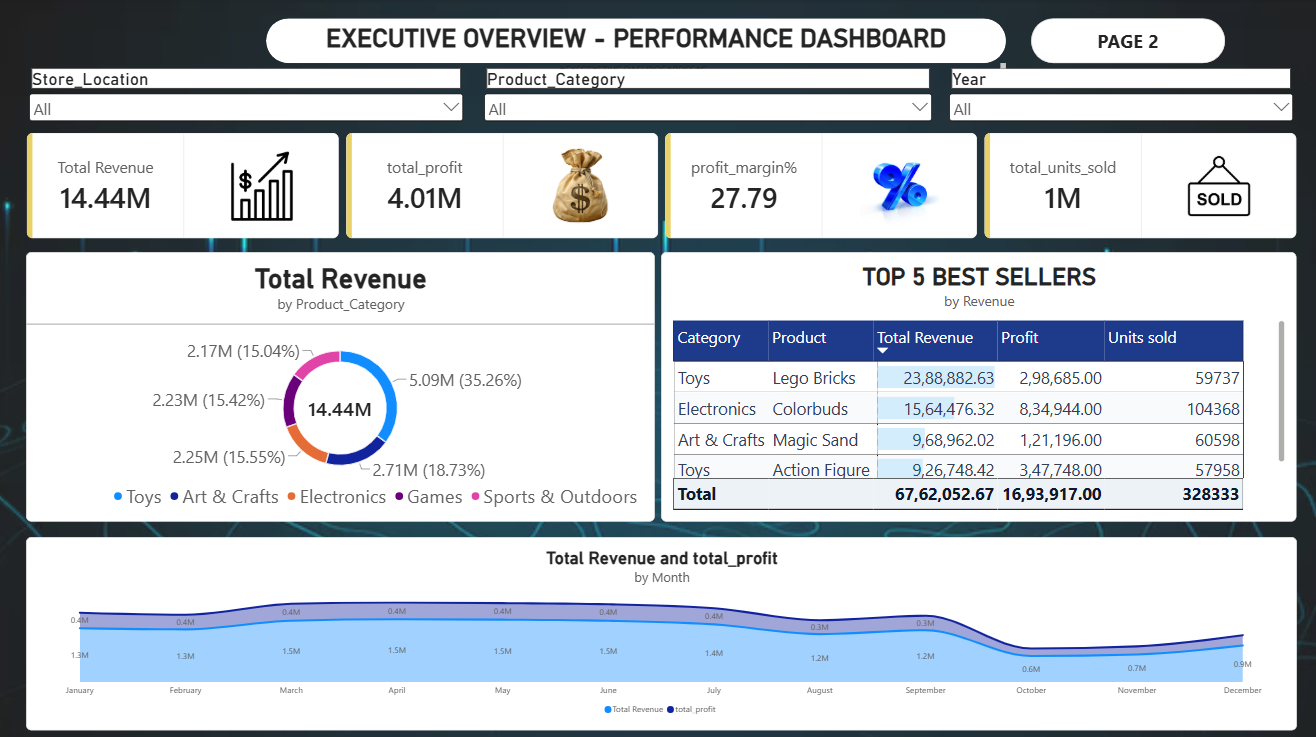

The dashboard page shown, as its layout file describes it:
{"tool":"powerbi","page":{"name":"Page 1","canvas":[1920,1080],"ordinal":0},"visuals":[{"type":"slicer","fields":{"Values":["stores.Store_Location"]},"box":[50,102.5,637.5,87.5],"z":0},{"type":"slicer","fields":{"Values":["products (1).Product_Category"]},"box":[710.1,102.9,657.5,86],"z":1000},{"type":"slicer","fields":{"Values":["sales.Date.Variation.Date Hierarchy.Year"]},"box":[1382.5,102.5,507.5,95],"z":2000},{"type":"cardVisual","fields":{"Data":["table_measures.total_revenue","table_measures.total_profit","table_measures.profit_margin%","table_measures.total_units_sold"]},"box":[50,195,1840,155],"z":3000},{"type":"stackedAreaChart","fields":{"Category":["sales.Date.Variation.Date Hierarchy.Month"],"Y":["table_measures.Total Revenue","table_measures.total_profit"]},"box":[50,782.5,1840,280],"z":4000},{"type":"donutChart","fields":{"Category":["products.Product_Category"],"Y":["table_measures.Total Revenue"]},"box":[50,370,910,390],"z":5000},{"type":"shape","box":[399,30.1,1071.5,65.2],"z":7000},{"type":"textbox","title":"EXECUTIVE OVERVIEW - PERFORMANCE DASHBOARD","box":[397.5,37.5,1071.5,65.2],"z":8000},{"type":"actionButton","box":[1505.6,30.1,281,65.2],"z":8001},{"type":"tableEx","title":"TOP 5 BEST SELLERS","fields":{"Values":["products.Product_Category","products.Product_Name","table_measures.Total Revenue","table_measures.total_profit","table_measures.total_units_sold"]},"box":[970,370,920,390],"z":8002}]}

Visuals, with their boxes in screenshot pixels (x1, y1, x2, y2), scaled from the page's 1920x1080 canvas onto the 1316x737 screenshot:
slicer - stores.Store_Location: left=34, top=70, right=471, bottom=130
slicer - products (1).Product_Category: left=487, top=70, right=937, bottom=129
slicer - sales.Date.Variation.Date Hierarchy.Year: left=948, top=70, right=1295, bottom=135
cardVisual - table_measures.total_revenue x table_measures.total_profit: left=34, top=133, right=1295, bottom=239
stackedAreaChart - sales.Date.Variation.Date Hierarchy.Month x table_measures.Total Revenue: left=34, top=534, right=1295, bottom=725
donutChart - products.Product_Category x table_measures.Total Revenue: left=34, top=252, right=658, bottom=519
shape: left=273, top=21, right=1008, bottom=65
"EXECUTIVE OVERVIEW - PERFORMANCE DASHBOARD" textbox: left=272, top=26, right=1007, bottom=70
actionButton: left=1032, top=21, right=1225, bottom=65
"TOP 5 BEST SELLERS" tableEx: left=665, top=252, right=1295, bottom=519
